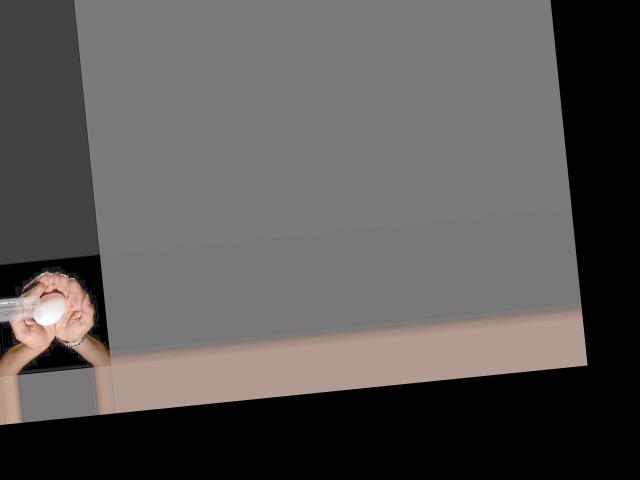egg: (31, 290, 68, 326)
